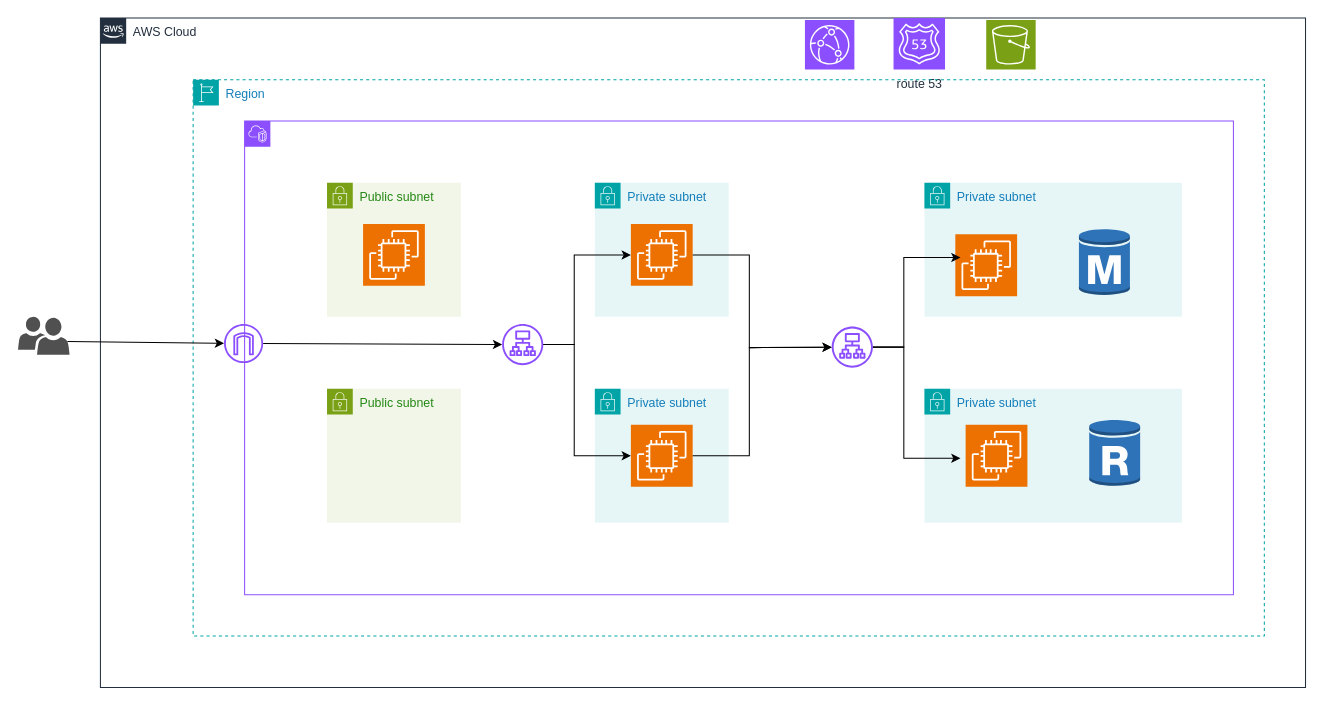
This 1324x706 diagram has some shape labels left out. The box of each missing label's shape, as (x1, y1, x2, y2) in pixels:
CloudFront: (804, 19, 854, 70)
RDS Master: (1078, 227, 1130, 296)
RDS Read Replicas: (1088, 418, 1140, 487)
S3: (985, 19, 1036, 70)
VPC: (244, 120, 1233, 595)
